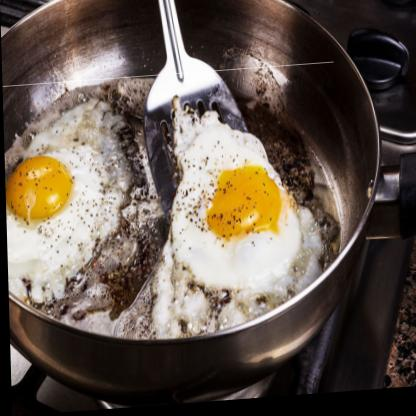egg: (2, 67, 340, 351)
